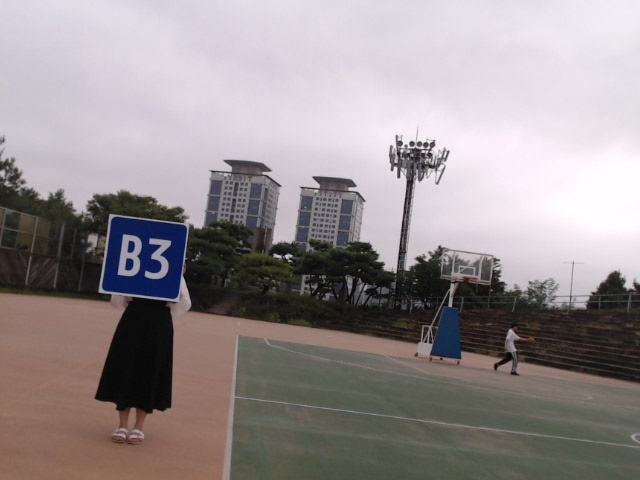delivery_b3: (101, 214, 190, 301)
